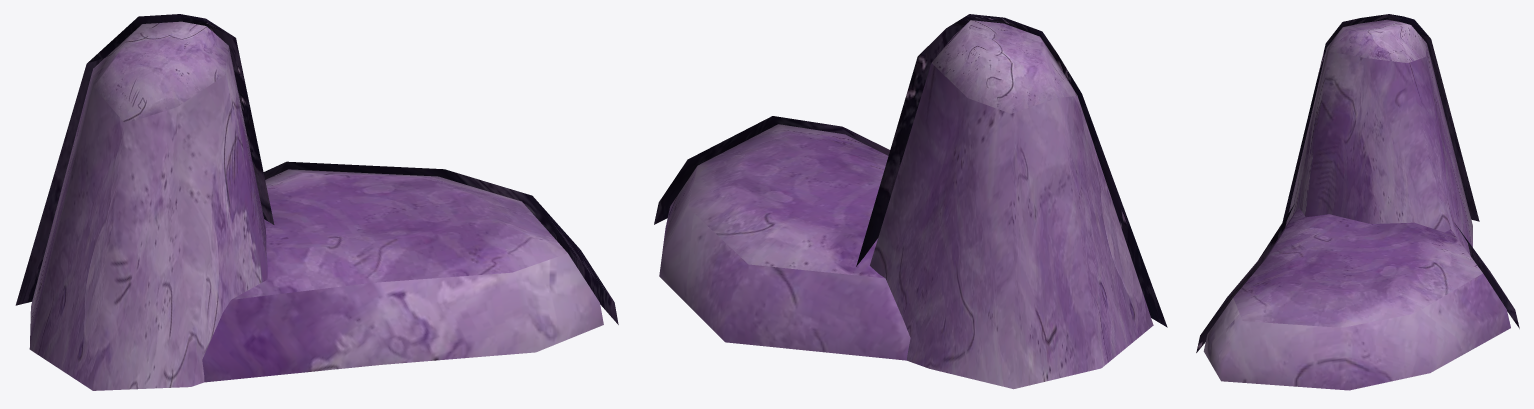
Rendered from rock-01-art.glb.
3 renders of one model, left to right at view 1: azimuth 30°, elevation 25°; view 2: azimuth 150°, elevation 25°; view 3: azimuth 270°, elevation 25°, orthographic. The views are drawn at different scales.
Parts seen in each view (by area): view 1: Rock_01_Art; view 2: Rock_01_Art; view 3: Rock_01_Art.
Boxes of the visible parts, x1,y1,x2,y2 form: Rock_01_Art: [15, 14, 618, 390]; Rock_01_Art: [654, 14, 1167, 389]; Rock_01_Art: [1196, 14, 1519, 390].
Size of what is drawn, in the model's own units: 4.24 by 2.47 by 3.03.
Materials: 2 (2 with a texture image).
